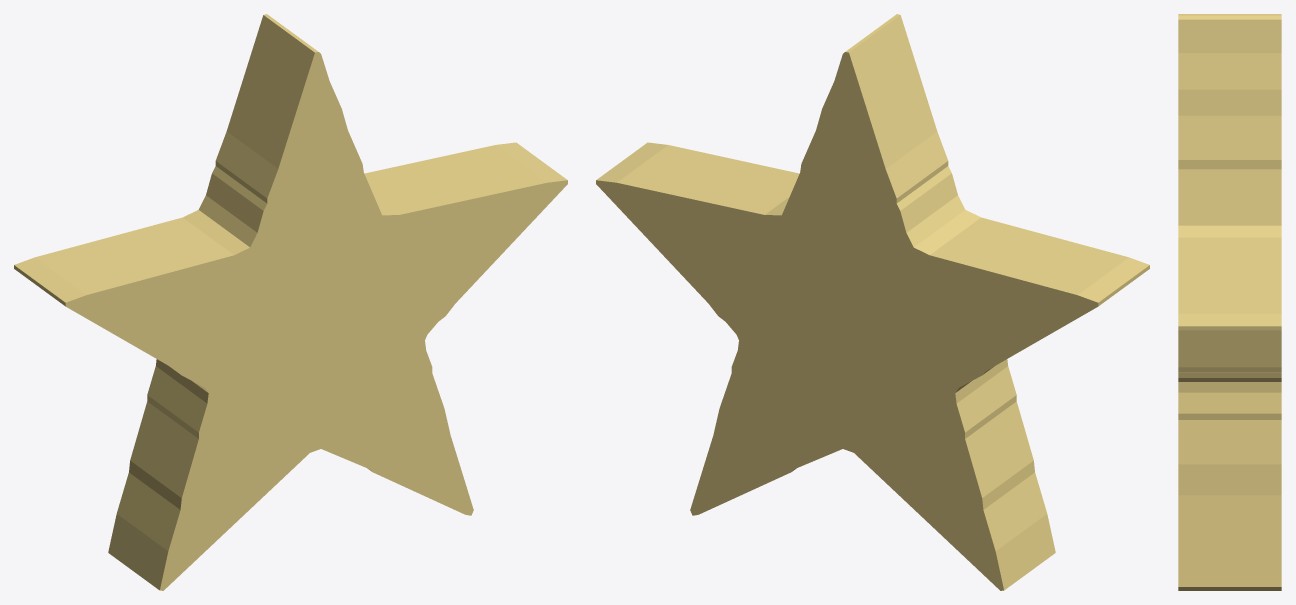
3 views of the same model, side by side, from view 1: azimuth 30°, elevation 25°; view 2: azimuth 150°, elevation 25°; view 3: azimuth 270°, elevation 25° (orthographic).
Visible parts, largest first — view 1: body_0; view 2: body_0; view 3: body_0.
Boxes of the visible parts, <box> form: body_0: <box>14,14,567,590</box>; body_0: <box>596,14,1149,590</box>; body_0: <box>1178,14,1281,590</box>.
Size of the model in its own units: 1 by 0.9538 by 0.1781.
